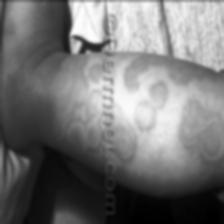Toxin: (134, 96, 160, 130), (72, 119, 94, 157)
